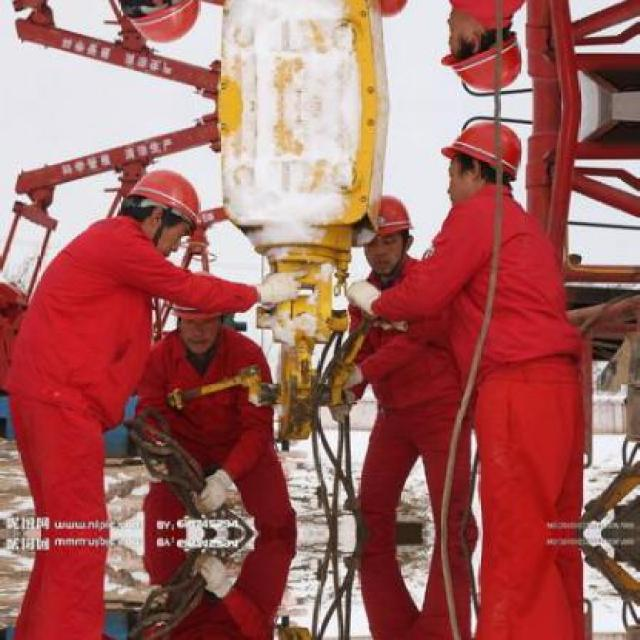helmet: (431, 0, 531, 102), (431, 112, 529, 214), (118, 159, 211, 256), (169, 266, 228, 354), (119, 0, 212, 54), (370, 187, 416, 274), (369, 0, 417, 26)
